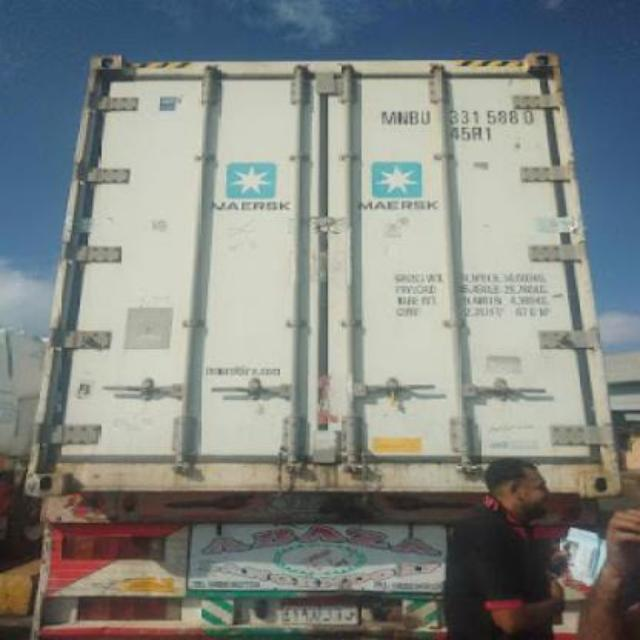0: (524, 106, 540, 126)
1: (471, 106, 484, 124)
3: (446, 106, 462, 128), (460, 108, 470, 128)
5: (484, 104, 498, 128)
8: (496, 105, 509, 128), (508, 105, 520, 128)
B: (408, 106, 420, 128)
M: (374, 103, 396, 127)
N: (394, 106, 410, 128)
U: (420, 104, 432, 128)
